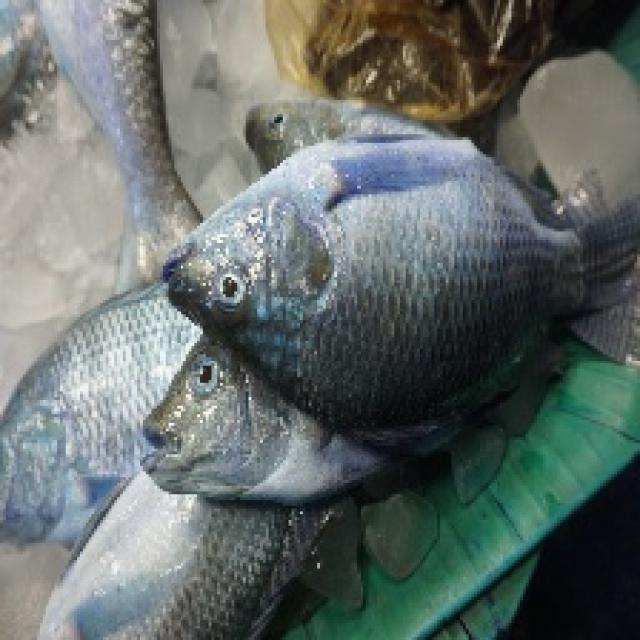Fresh: (171, 170, 640, 412), (117, 349, 289, 491)
